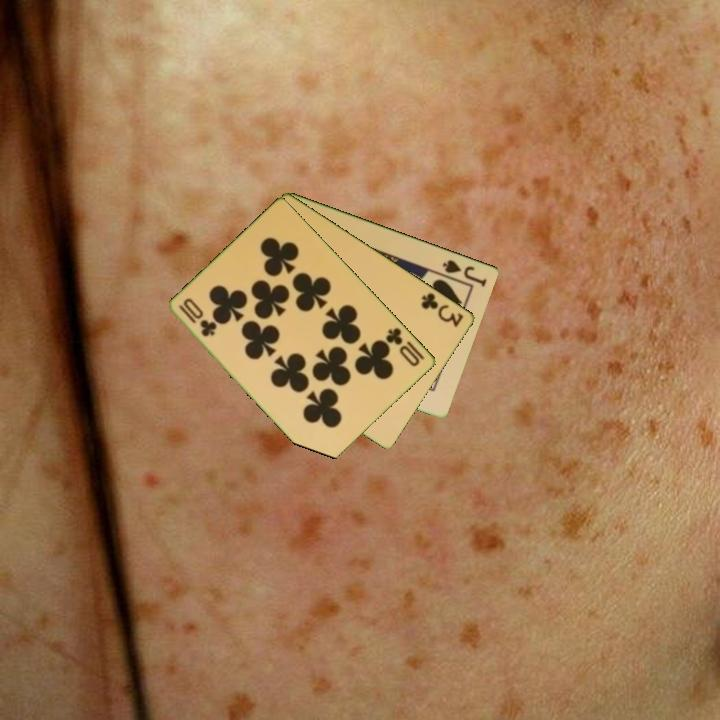10c: (382, 324, 428, 370), (176, 301, 219, 340)
3c: (418, 289, 467, 330)
Js: (439, 256, 490, 289)
